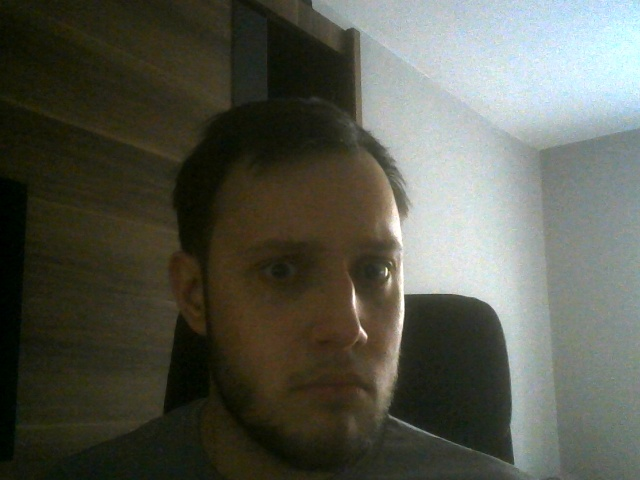surprised: (166, 95, 409, 470)
